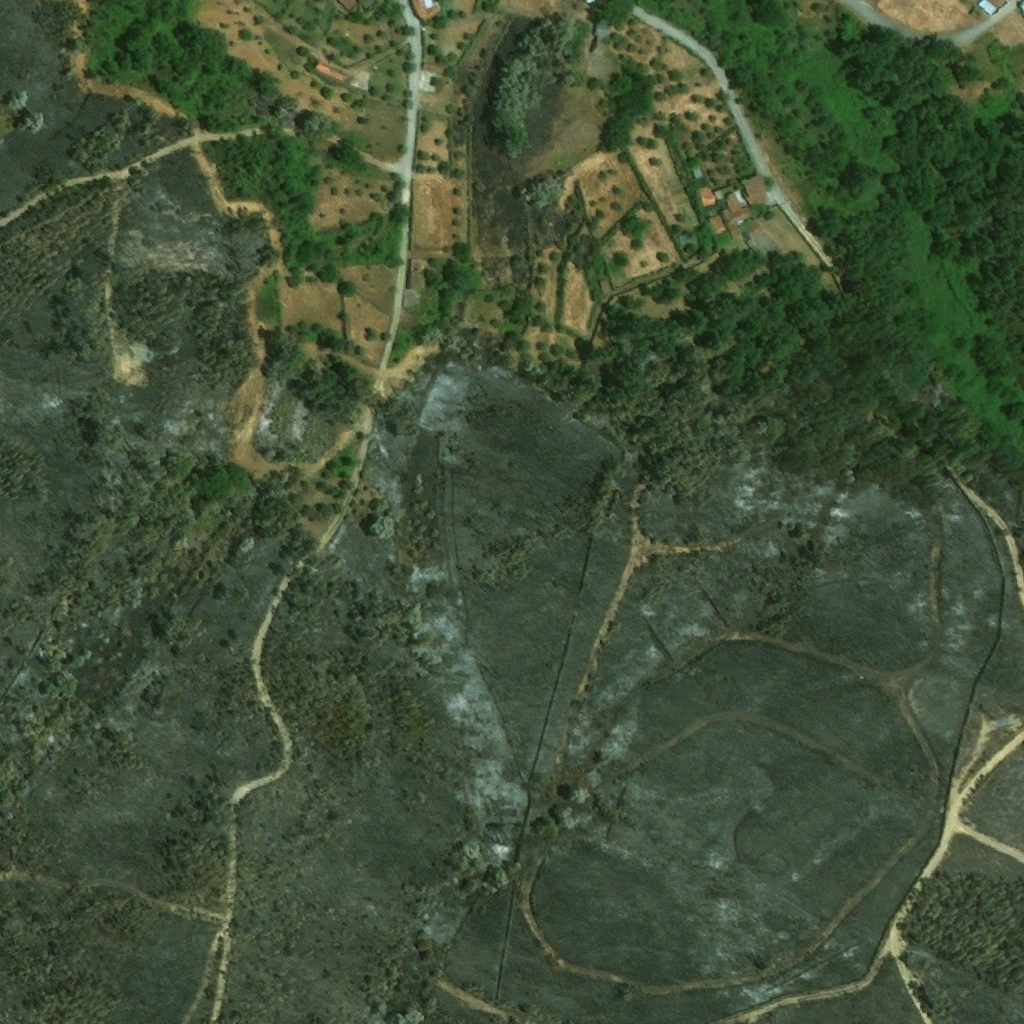0 no-damage: (727, 188, 752, 226), (316, 60, 348, 81), (745, 175, 767, 205), (720, 208, 741, 239), (742, 219, 763, 240), (696, 186, 716, 208), (707, 214, 725, 234), (423, 62, 449, 74)
4 un-classified: (411, 0, 443, 22), (977, 0, 1007, 15), (334, 0, 358, 11)
